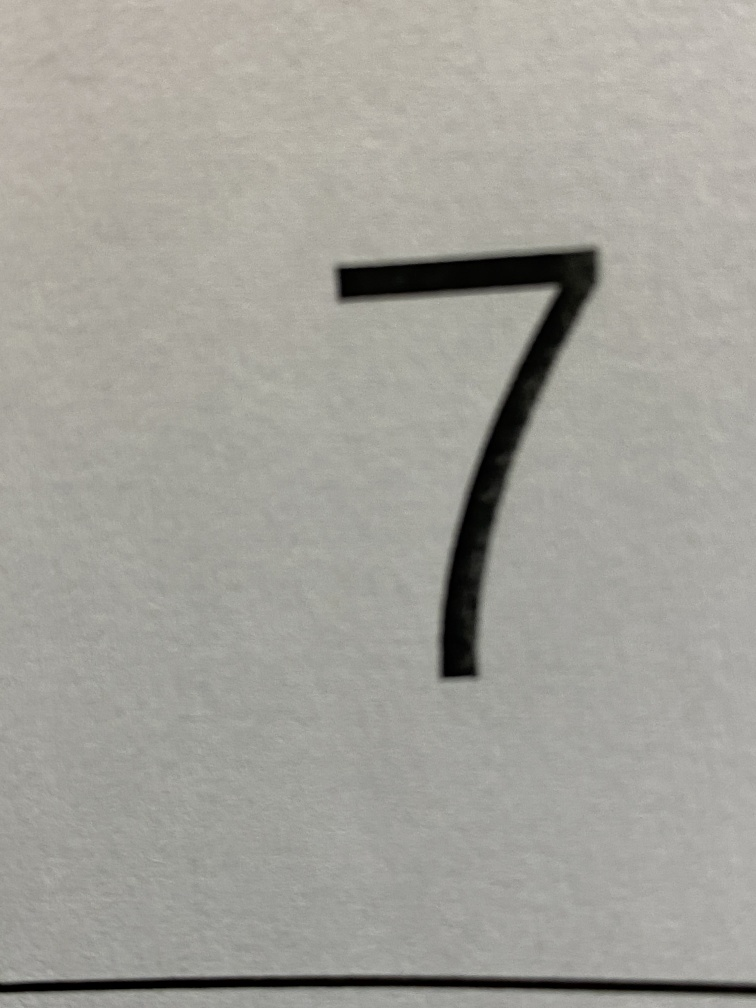seven: (257, 161, 691, 760)
